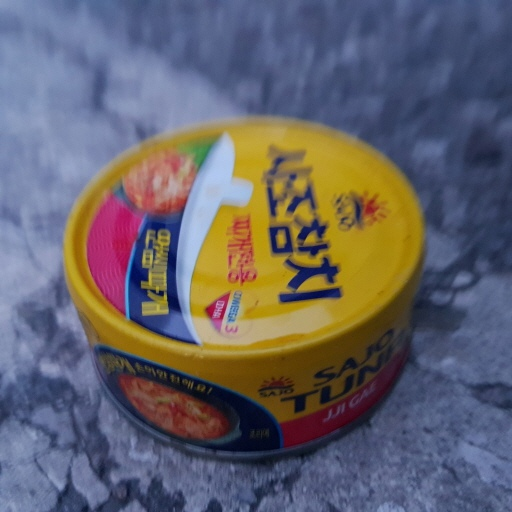Metal_1: (59, 116, 428, 455)
